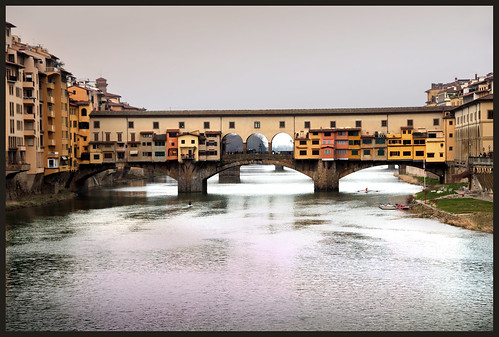bridge: (65, 146, 453, 210)
building: (95, 107, 457, 157), (34, 57, 74, 179), (1, 44, 32, 184), (449, 89, 499, 174), (71, 78, 99, 167)
river: (11, 187, 494, 329)
sky: (19, 5, 490, 110)
